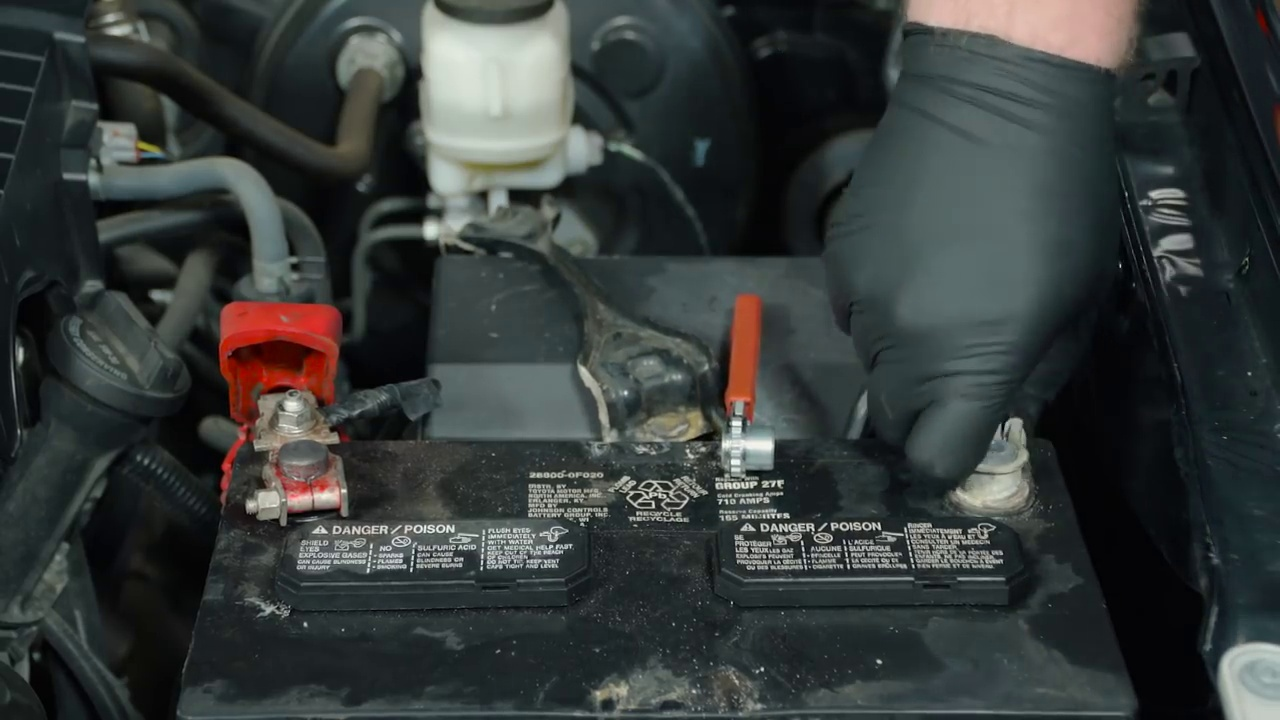battery: (208, 405, 1125, 710)
neg_touched: (857, 264, 1077, 505)
pos_connected: (189, 264, 370, 529)
